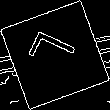L_SE: (25, 30, 85, 80)
